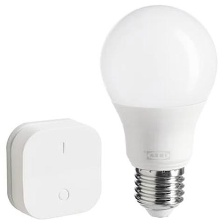light_bulb: (96, 1, 221, 220)
